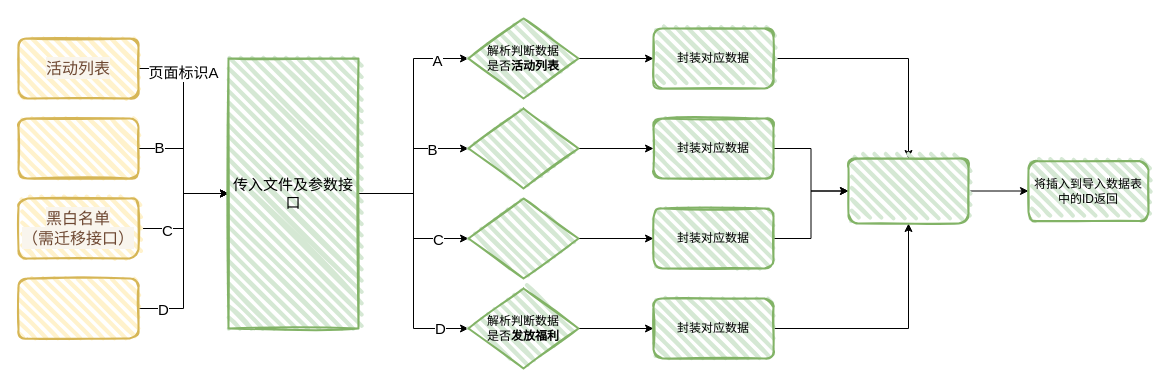
Image size: 1166x386. Some labels were removed from this diagram. Each missing label, with the box of its shape:
1.保存数据到 导入数据表 2.保存数据到 导入数据详情表: (847, 157, 969, 224)
专属权益: (17, 117, 139, 179)
发放福利: (17, 277, 139, 339)
解析判断数据 是否 专属权益: (467, 107, 579, 189)
解析判断数据 是否 黑白名单: (467, 197, 579, 279)
